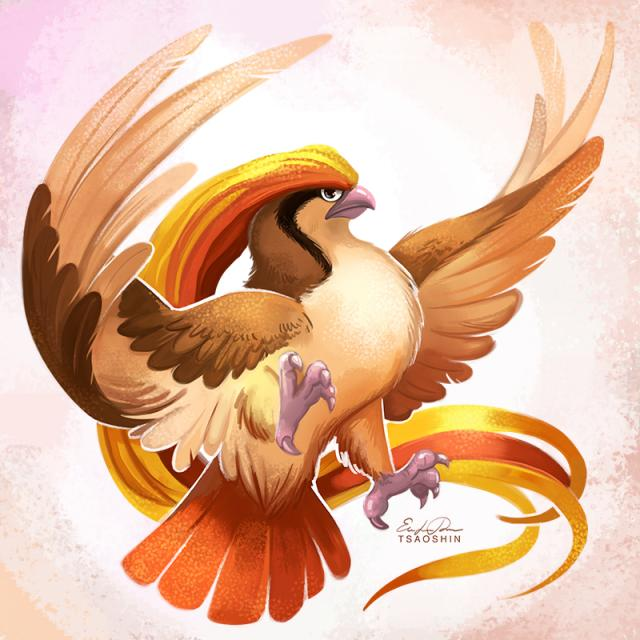Pidgeot: (75, 134, 490, 596)
